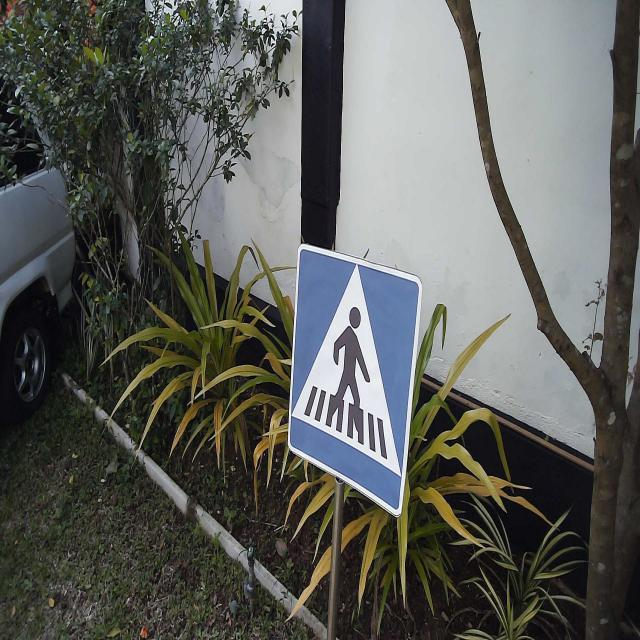crosswalk_sign: (286, 242, 424, 520)
